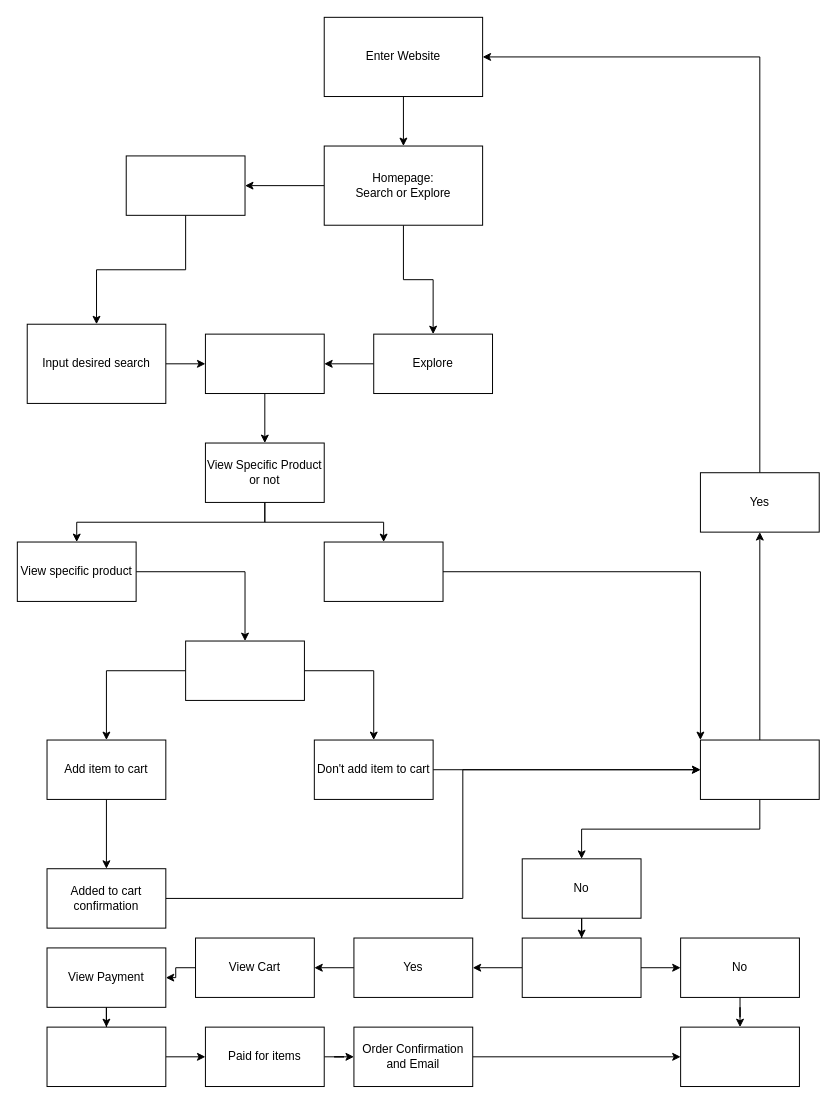
Image size: 837x1104. Some labels were removed from this diagram. Here are the shapes that lost their labels. From the top down, the centre of each, then its label:
At (185,185): "Search".
At (264,363): "Look over Product".
At (383,571): "Don't view product".
At (244,670): "Open product's webpage".
At (759,769): "Continue shopping?".
At (581,967): "Checkout?".
At (106,1056): "Input Payment Info".
At (739,1056): "Leave Website".
